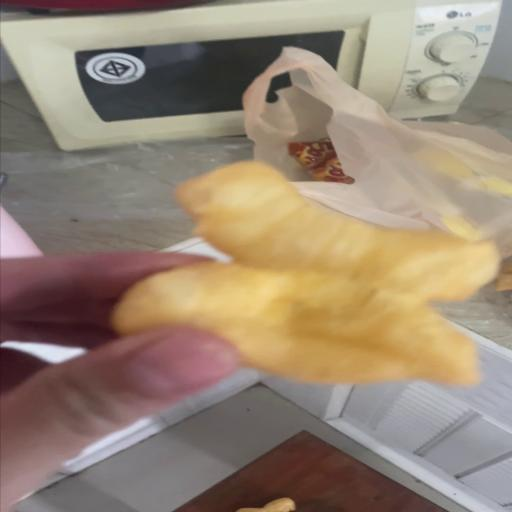street_golden_good: (108, 164, 500, 385)
